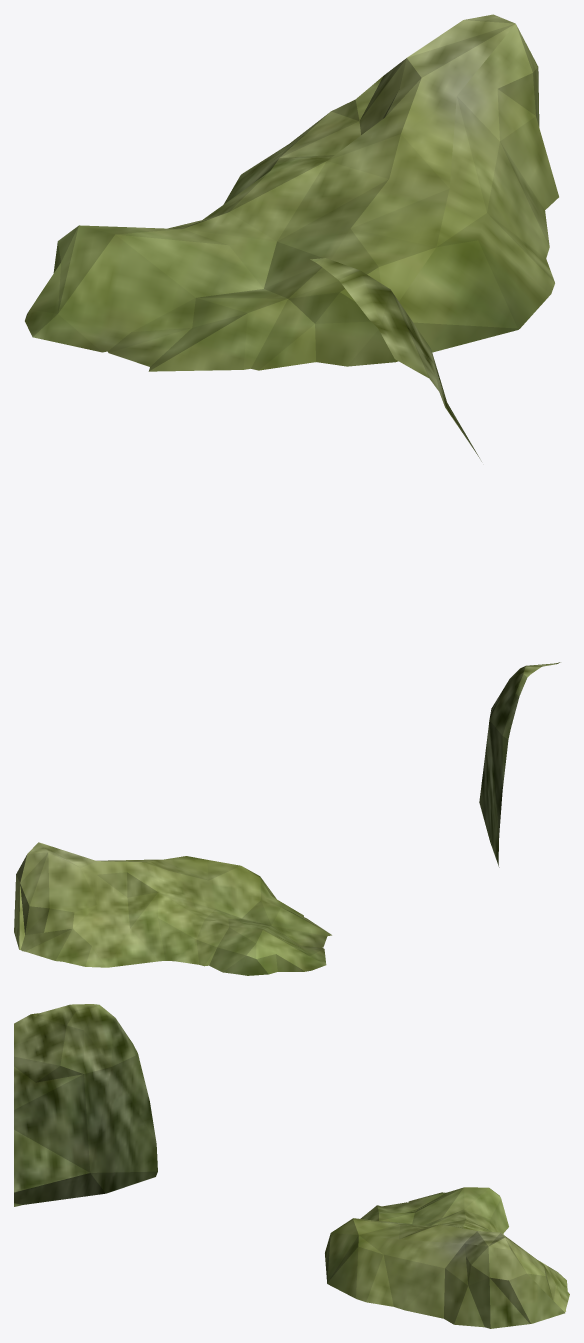
3 renders of one model, top to bottom at view 1: azimuth 30°, elevation 25°; view 2: azimuth 150°, elevation 25°; view 3: azimuth 270°, elevation 25°, orthographic. The views are drawn at different scales.
Size of the model in its own units: 1.23 by 0.655 by 1.91.
Materials: 1 (1 with a texture image).
